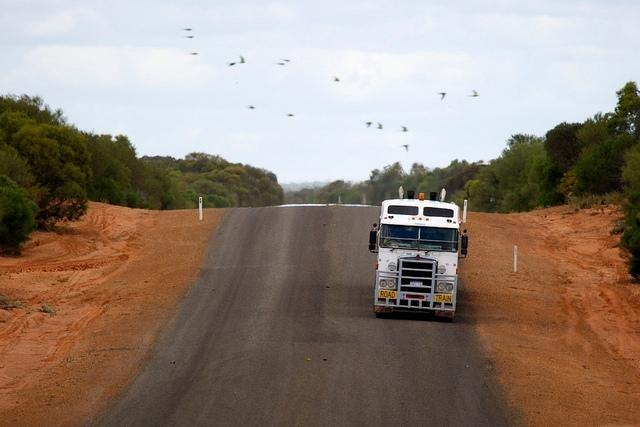truck: (377, 202, 461, 314)
